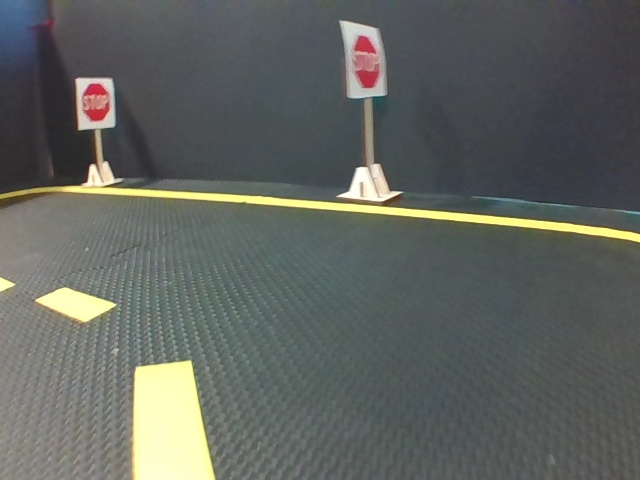stop: (341, 21, 386, 96), (76, 78, 112, 128)
